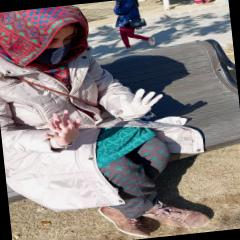gloved: (108, 87, 166, 119)
not-gloved: (41, 107, 84, 147)
